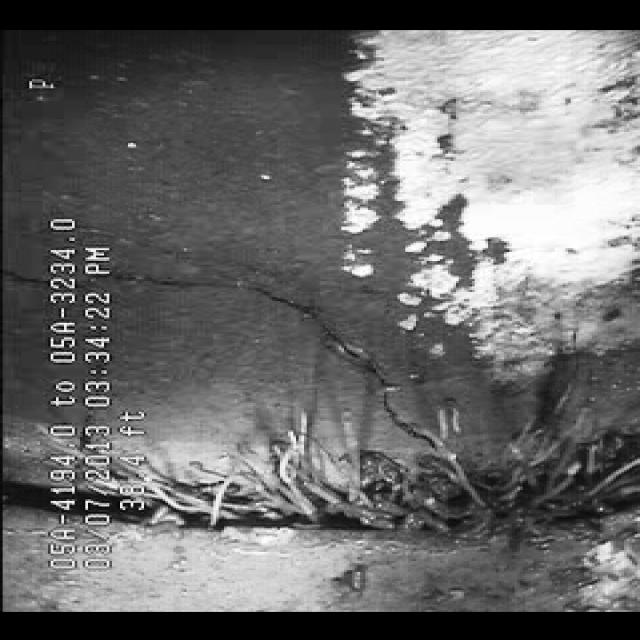Crack: (136, 254, 468, 422)
